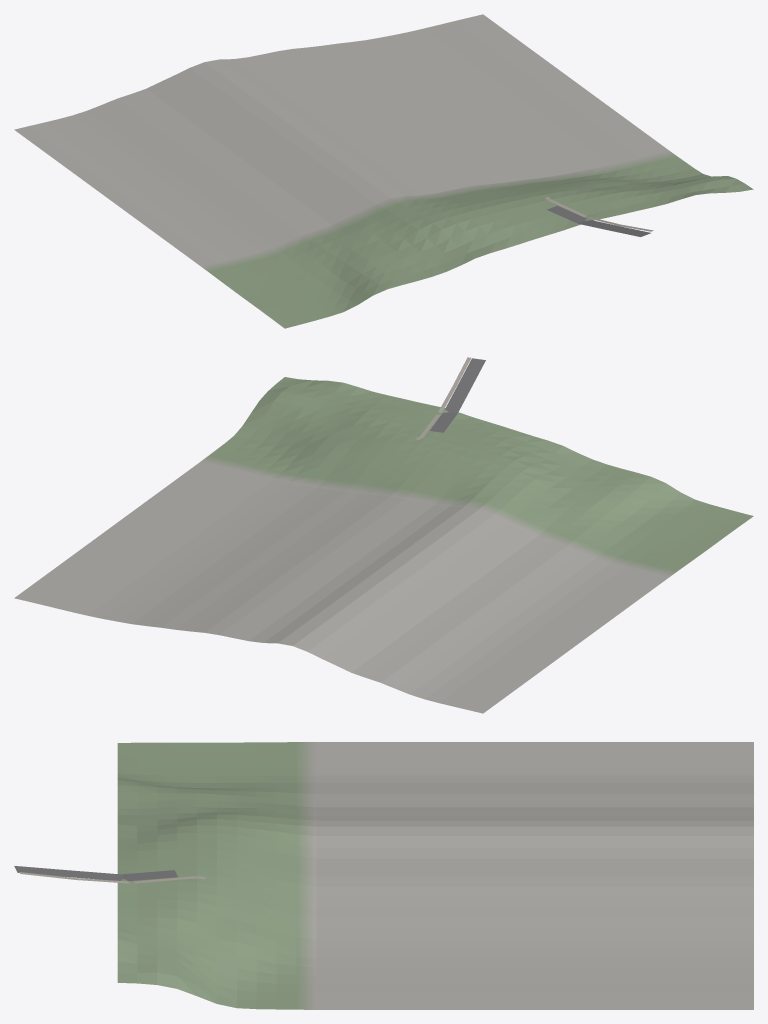
Rendered from tile_5_-8.glb.
The picture shows the model from 3 angles, top to bottom: view 1: azimuth 30°, elevation 25°; view 2: azimuth 150°, elevation 25°; view 3: azimuth 270°, elevation 25°; orthographic projection. The views are drawn at different scales.
Parts seen in each view (by area): view 1: terrain, roads; view 2: terrain, roads; view 3: terrain, roads, paths.
Boxes of the visible parts, x1,y1,x2,y2 form: terrain: (14, 14, 753, 328); roads: (547, 205, 650, 236); terrain: (14, 377, 753, 713); roads: (430, 358, 485, 432); terrain: (117, 742, 753, 1009); roads: (14, 866, 177, 881); paths: (19, 872, 205, 883).
Size of the model in its own units: 256 by 25.27 by 298.
